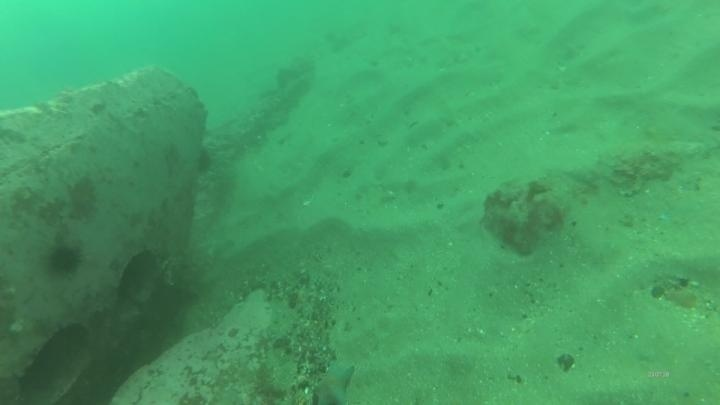echinus: (44, 241, 84, 278)
starfish: (309, 358, 358, 405)
